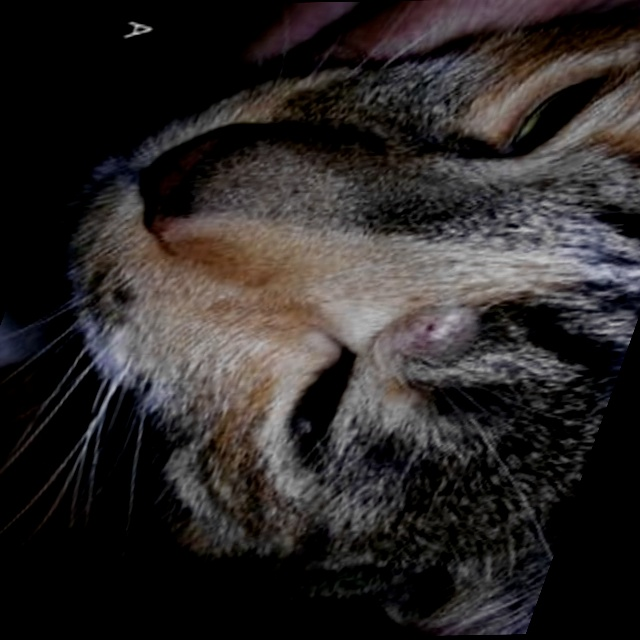lump_and_bump: (383, 307, 482, 362)
